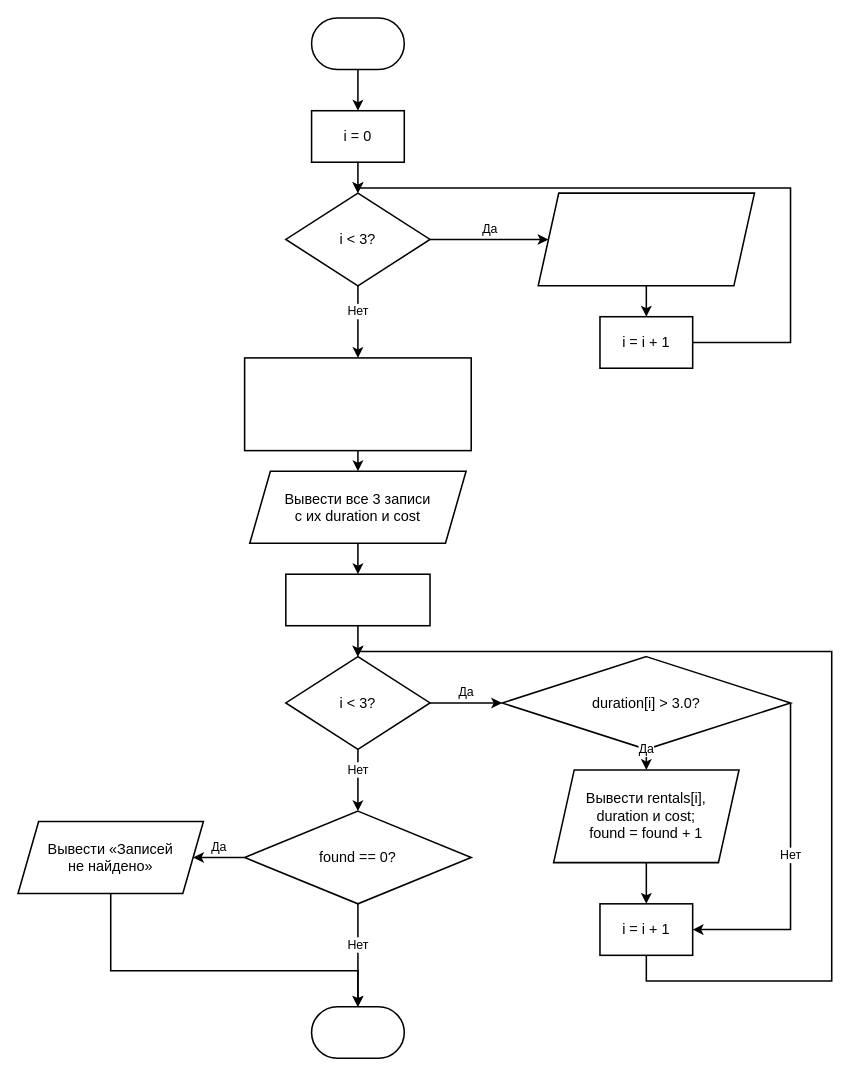
Image size: 859x1077. Some labels were removed from this diagram. The shapes that lost their labels are listed below. From the top down, each one's centre as x and y in pixels, then its label:
the point at 357,43: Начало
the point at 646,239: Ввести rentals[i]: номер, тип, тариф, время начала и конца
the point at 357,404: Для всех i от 0 до 2: рассчитать duration и cost (с учетом полуночи)
the point at 357,599: i = 0, found = 0
the point at 357,1032: Конец
